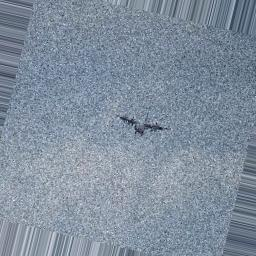Airplane: (118, 113, 170, 135)
